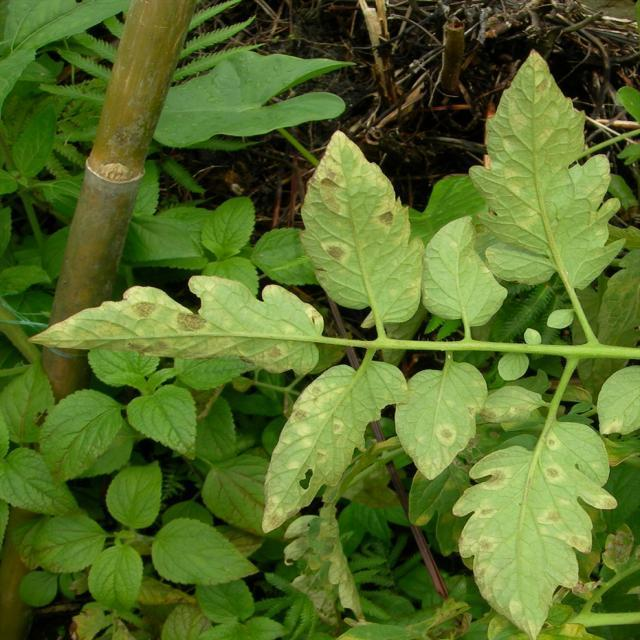Healthy Leaf: (152, 524, 270, 588), (106, 459, 166, 532), (202, 193, 260, 258), (92, 544, 146, 608)
Mosaic Virus: (468, 428, 598, 624), (494, 66, 608, 268), (258, 362, 366, 524), (122, 298, 297, 368), (314, 163, 392, 264), (408, 374, 469, 469)
